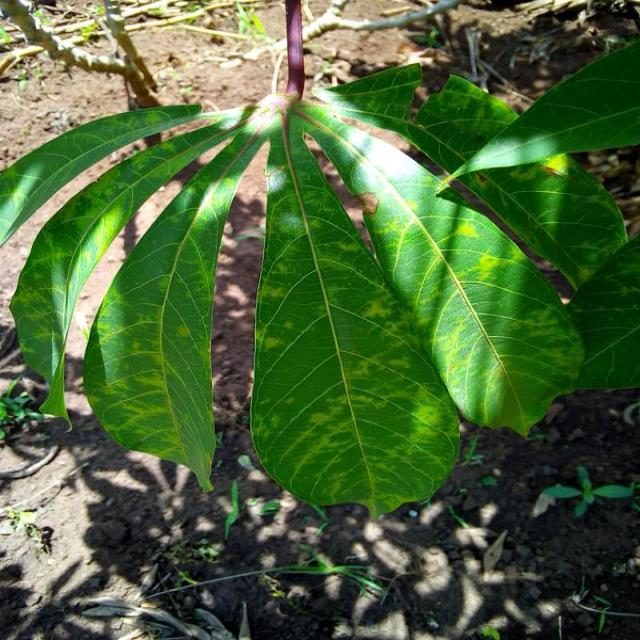cassava leaf: (2, 6, 638, 520), (301, 100, 586, 438), (250, 107, 462, 520), (82, 103, 271, 493), (422, 72, 630, 294)
